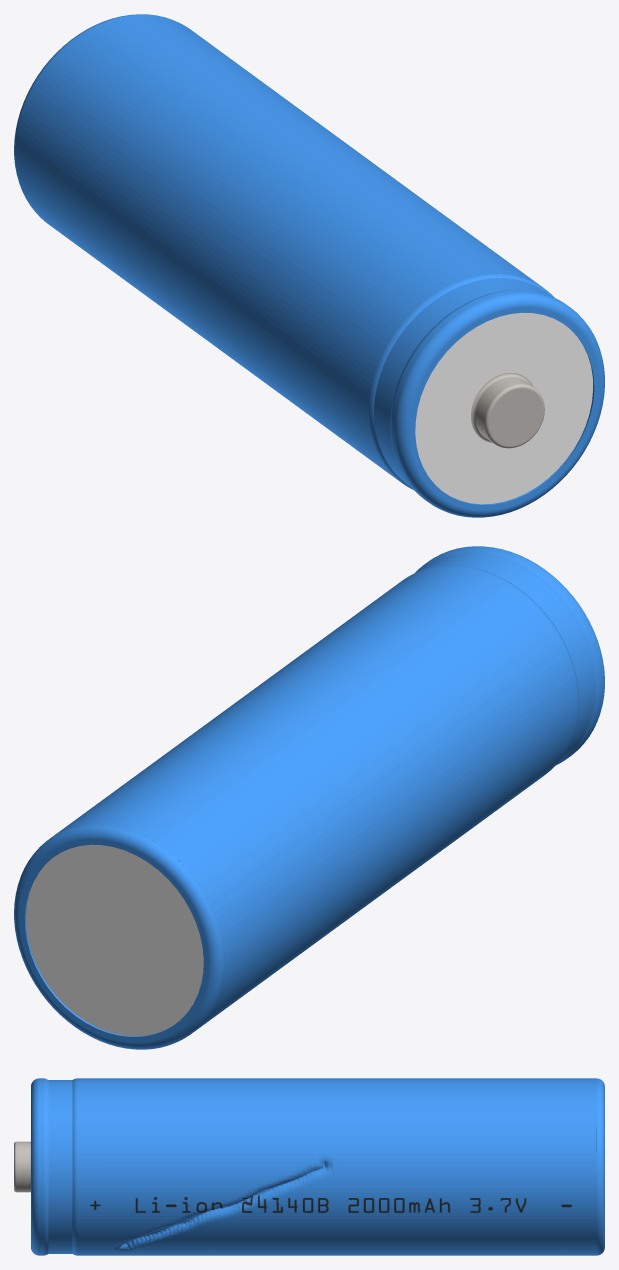
The model's file is defect_6.glb.
3 renders of one model, top to bottom at view 1: azimuth 30°, elevation 25°; view 2: azimuth 150°, elevation 25°; view 3: azimuth 270°, elevation 25°, orthographic. The views are drawn at different scales.
Parts seen in each view (by area): view 1: Cylinder, Cell_Top; view 2: Cylinder, Cell_bottom, Cell_Top; view 3: Cylinder, Cell_Top, Cell_bottom.
Boxes of the visible parts, x1,y1,x2,y2 form: Cylinder: [15, 15, 550, 480]; Cell_Top: [368, 273, 604, 517]; Cylinder: [52, 566, 577, 1031]; Cell_bottom: [14, 824, 224, 1049]; Cell_Top: [415, 546, 604, 765]; Cylinder: [77, 1078, 596, 1255]; Cell_Top: [14, 1078, 77, 1255]; Cell_bottom: [596, 1078, 604, 1255].
Bounding box in the file's own units: 0.021 × 0.021 × 0.07.
Materials: 10 (1 with a texture image).
